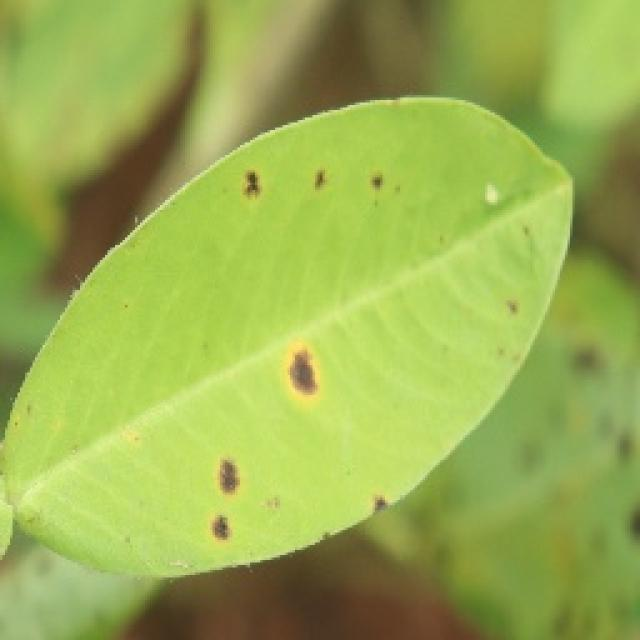Early_leaf_spot: (211, 442, 269, 563), (302, 149, 400, 206), (268, 332, 343, 398), (224, 150, 287, 217), (368, 480, 399, 526)
